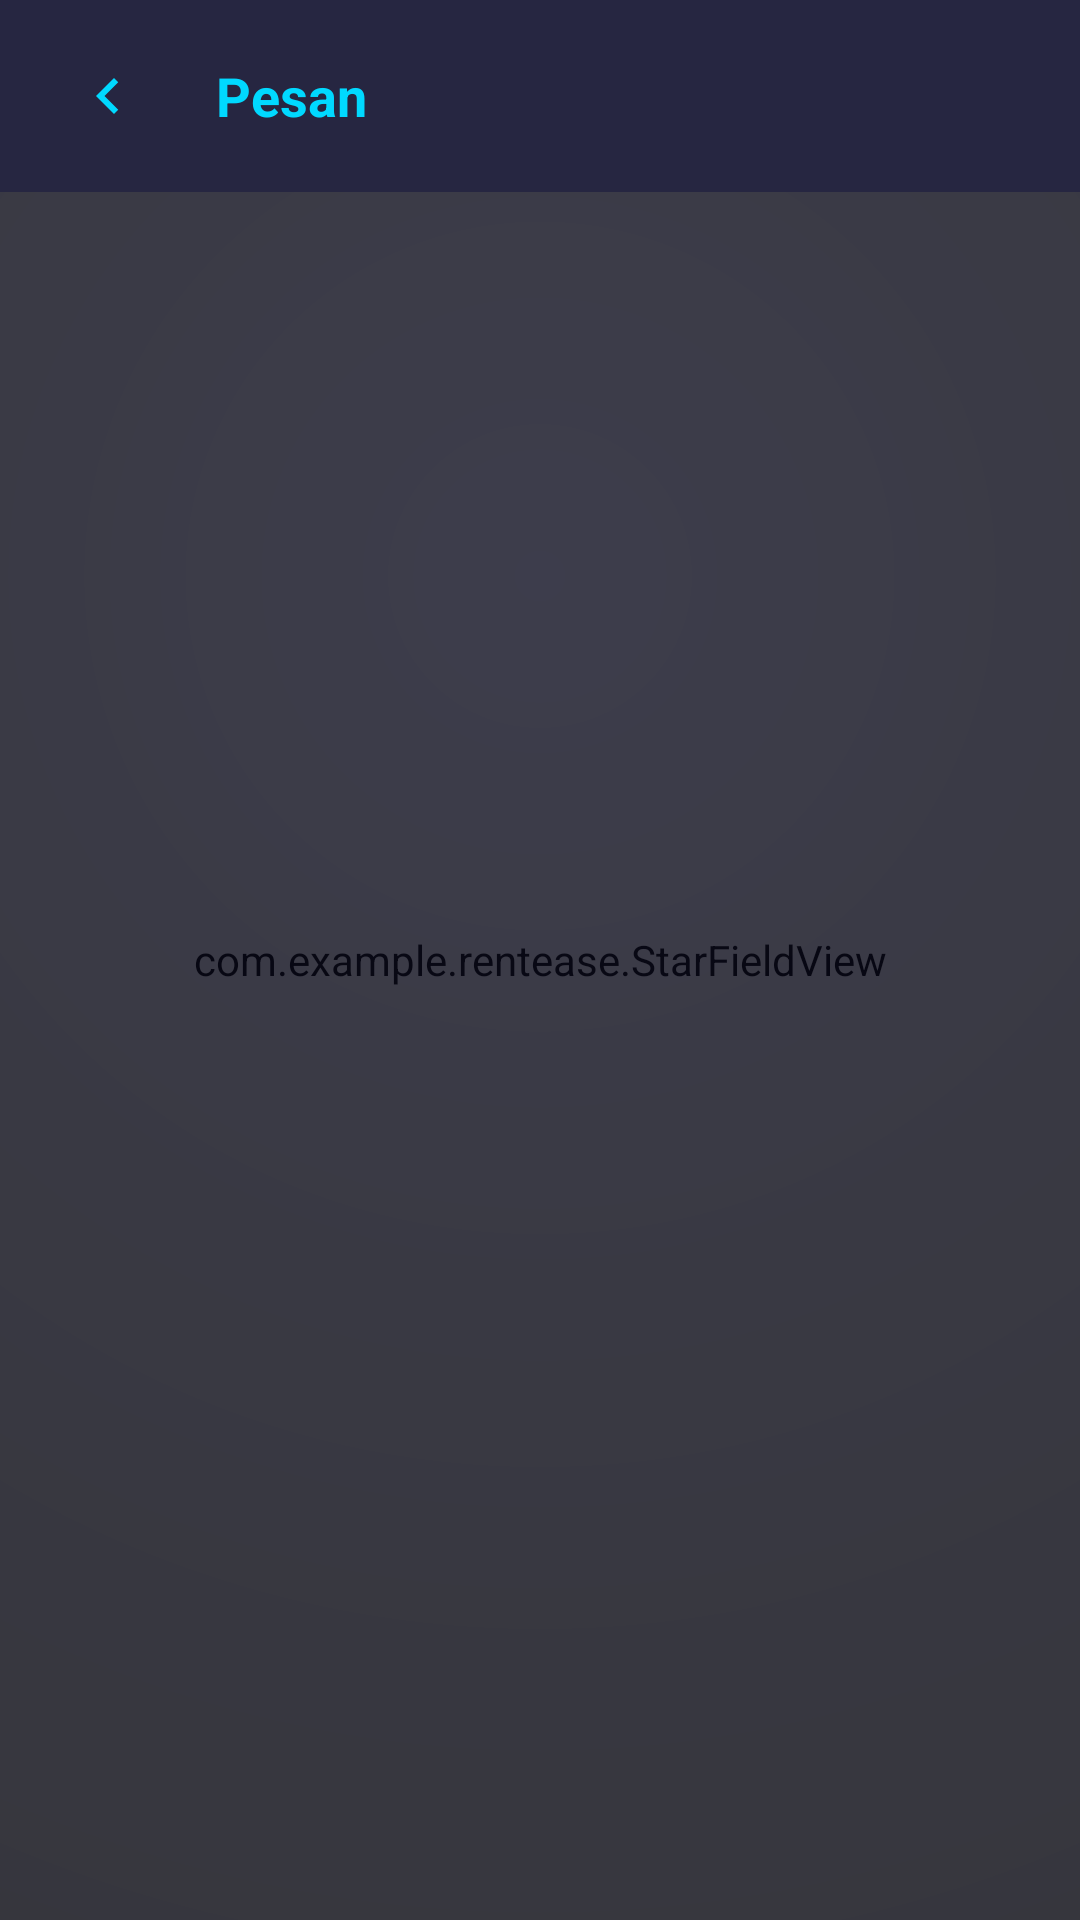

Locate icon controls on the screen. Image size 1080×1920, boxes as (x1, y1, x2, y2).
Kembali: (96, 78, 118, 114)
